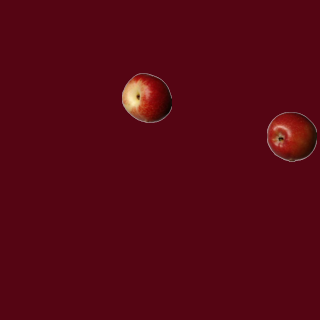Apple Braeburn: (266, 111, 316, 161)
Nectarine: (121, 72, 171, 122)
